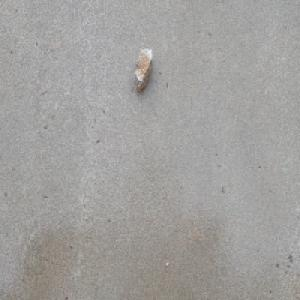Rock: (133, 46, 153, 92)
